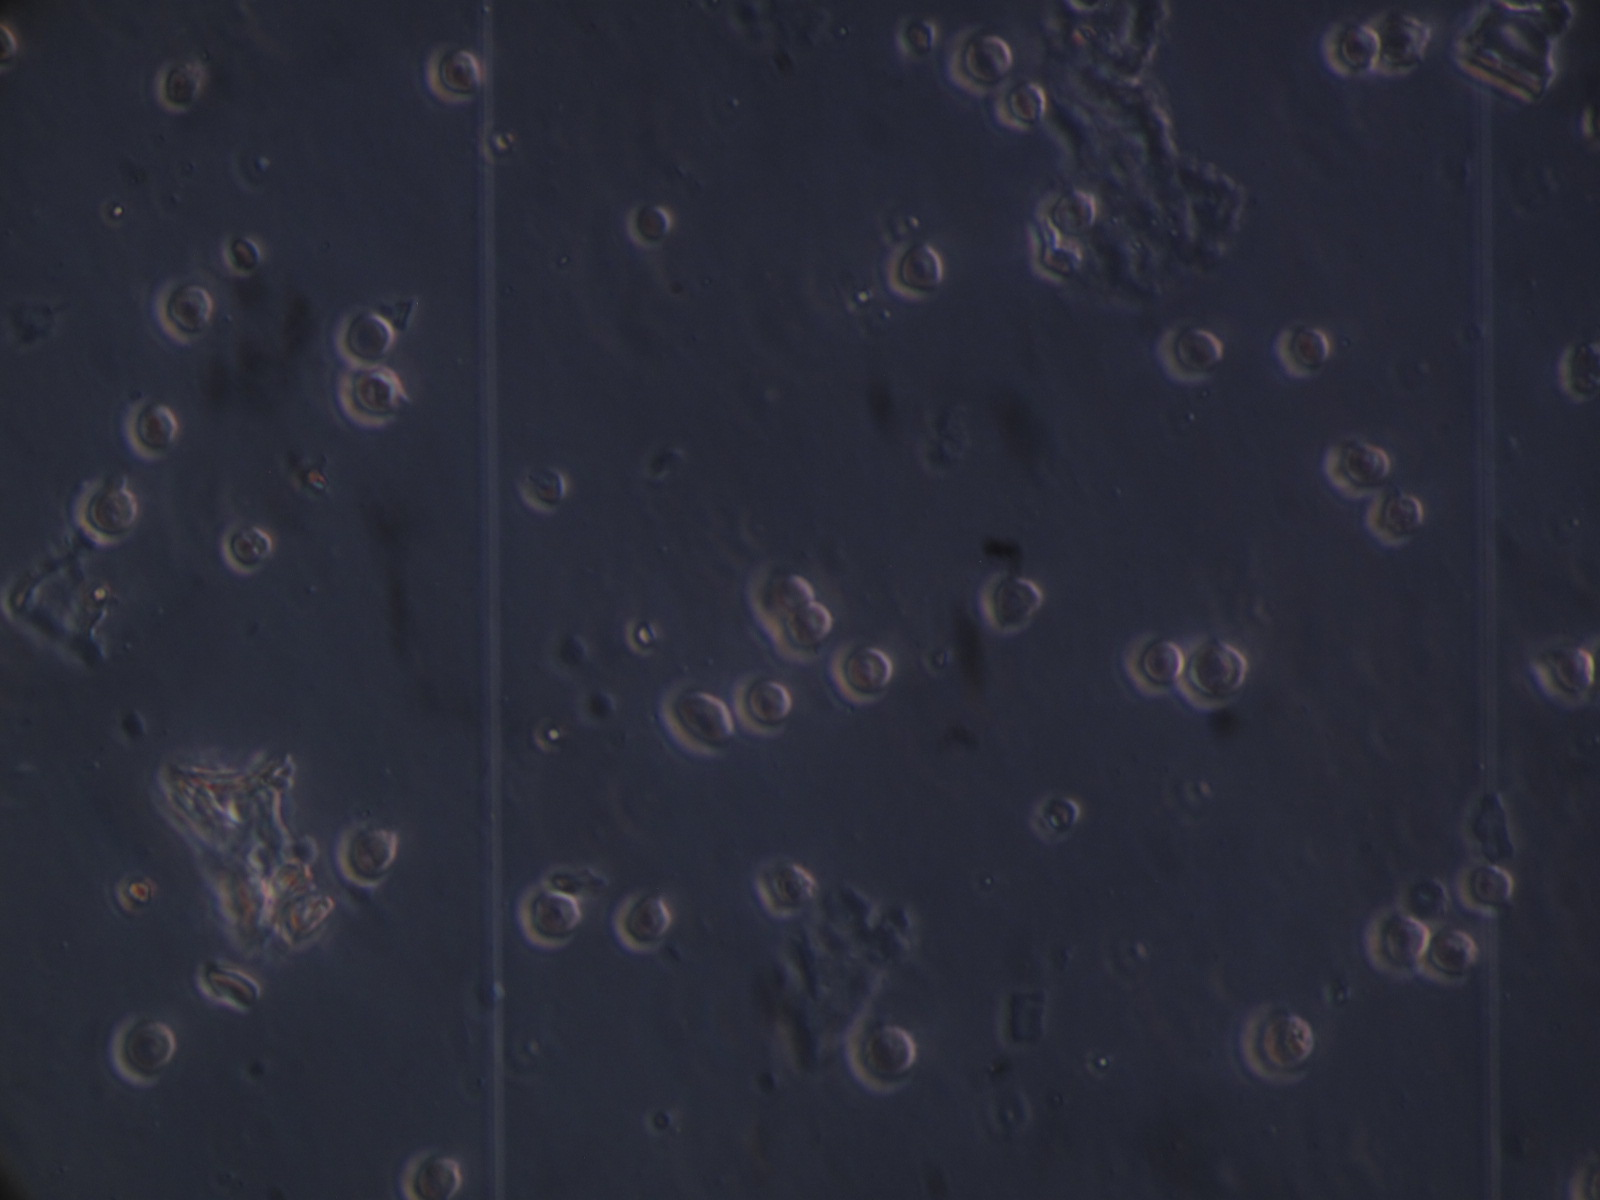hemo: (658, 677, 733, 759), (1240, 1005, 1313, 1085), (1178, 637, 1250, 713), (940, 21, 1013, 96), (110, 1012, 178, 1092), (847, 1024, 918, 1095), (1363, 906, 1430, 979), (517, 880, 583, 950), (828, 633, 893, 705), (73, 475, 137, 548), (1322, 431, 1390, 499), (1154, 319, 1223, 386), (334, 363, 406, 427), (1528, 645, 1595, 713), (1117, 630, 1186, 697), (335, 818, 398, 890), (1417, 918, 1479, 989), (732, 666, 792, 739), (329, 301, 394, 368), (976, 571, 1044, 634), (152, 275, 214, 344), (769, 603, 835, 666), (122, 393, 179, 464), (614, 889, 671, 957), (425, 42, 484, 106), (750, 562, 814, 621), (1455, 861, 1517, 921), (886, 239, 945, 301), (755, 860, 815, 916), (1367, 490, 1425, 548), (1274, 321, 1330, 381), (1324, 18, 1380, 78), (1378, 13, 1431, 76), (399, 1147, 462, 1200), (993, 76, 1046, 134), (220, 519, 273, 576), (154, 58, 204, 115), (1028, 792, 1081, 845), (514, 460, 566, 514), (1558, 342, 1600, 405), (1048, 187, 1099, 234), (627, 202, 671, 250), (220, 231, 265, 277), (894, 14, 936, 61), (1, 19, 21, 74)
